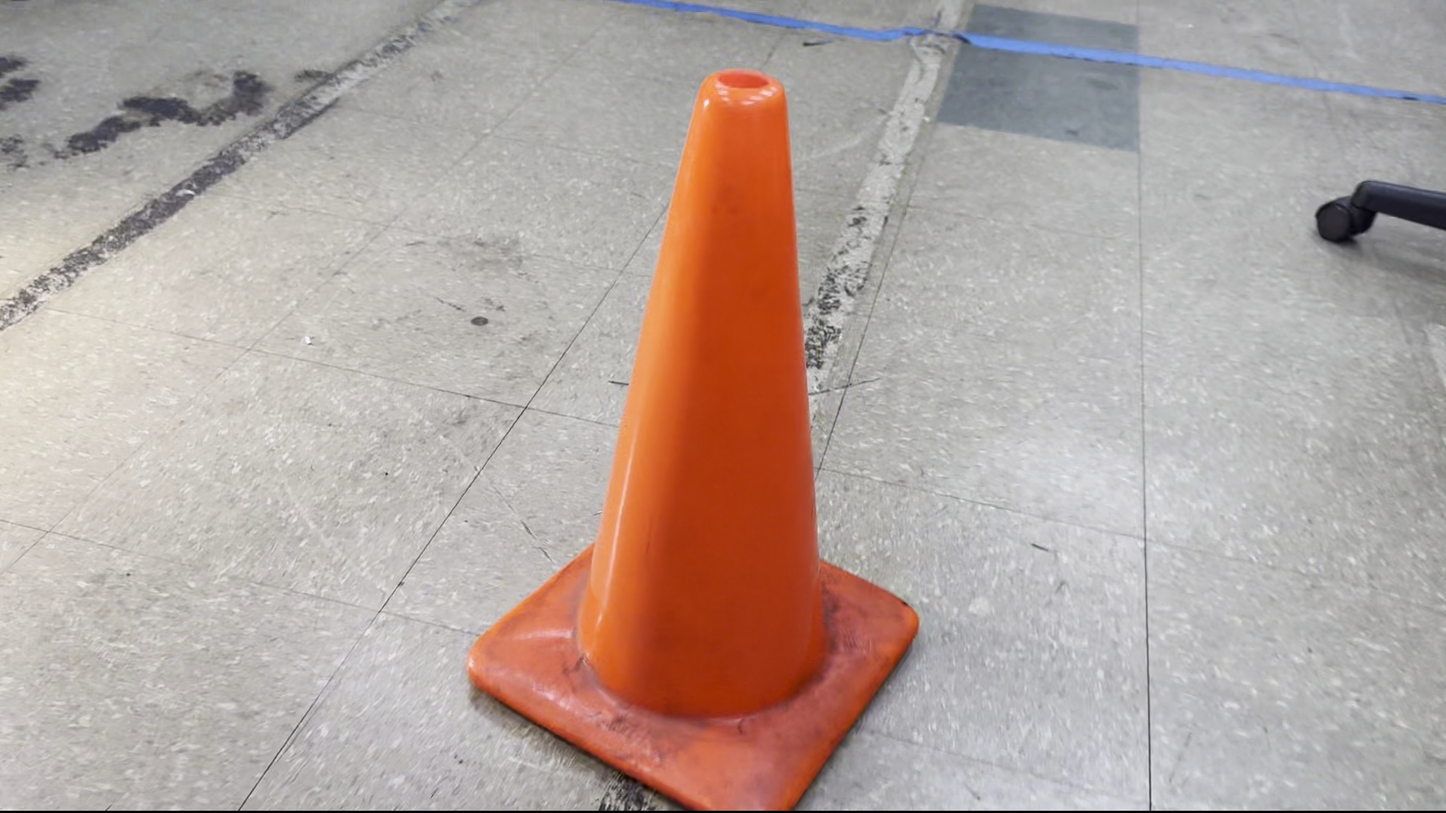traffic_cone: (466, 67, 920, 811)
